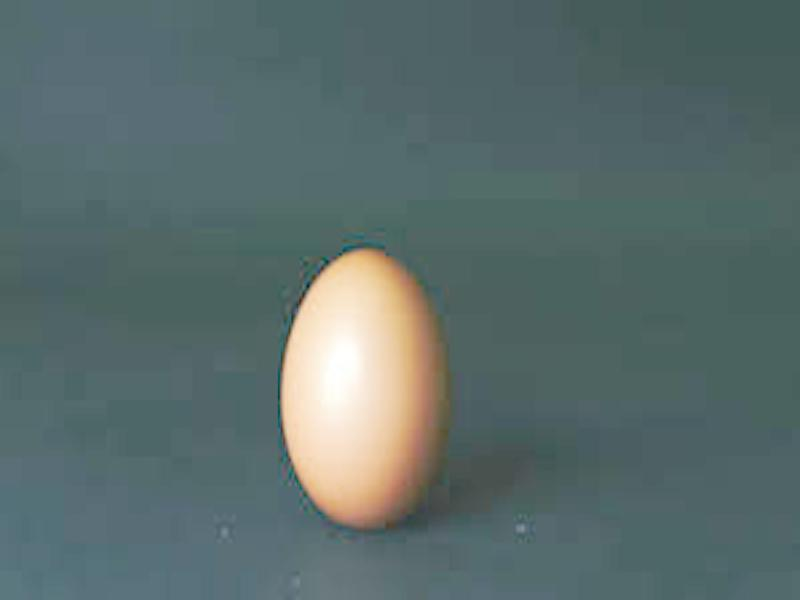Eggs: (284, 250, 444, 529)
